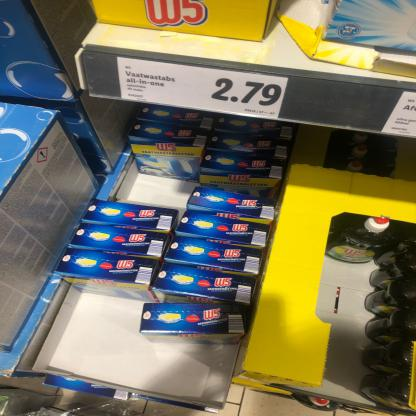prtg: (118, 57, 289, 120), (383, 92, 415, 139)
